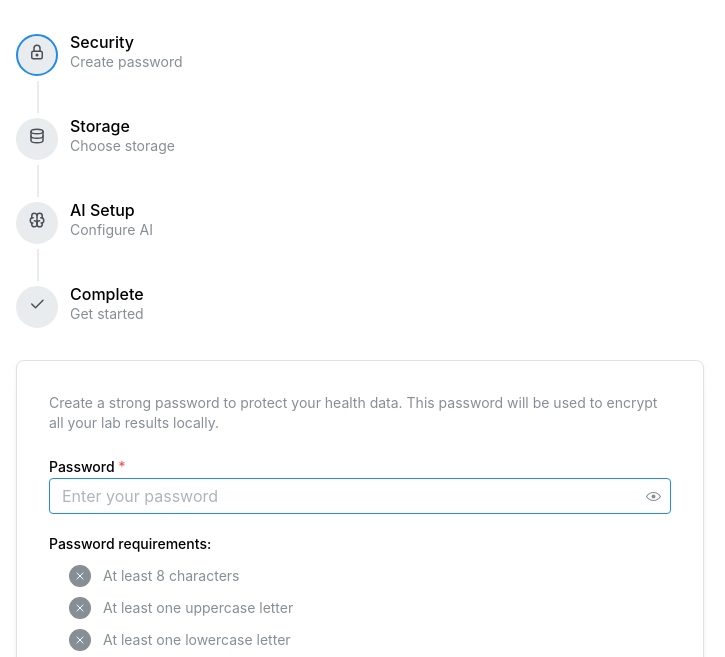
SetupWizard › Navigation Buttons › navigates to next step when Next button is clicked
Fill valid password
In the password field with placeholder "Enter your password": x=360, y=496 [50,479,670,513], type "TestPassword123!"
(page scrolled)
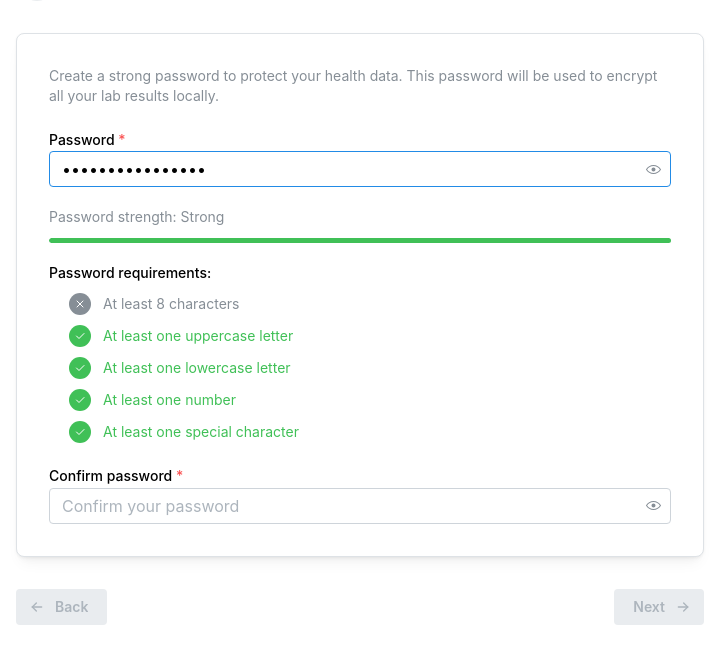
In the password field with placeholder "Confirm your password": x=360, y=506 [50,489,670,523], type "TestPassword123!"
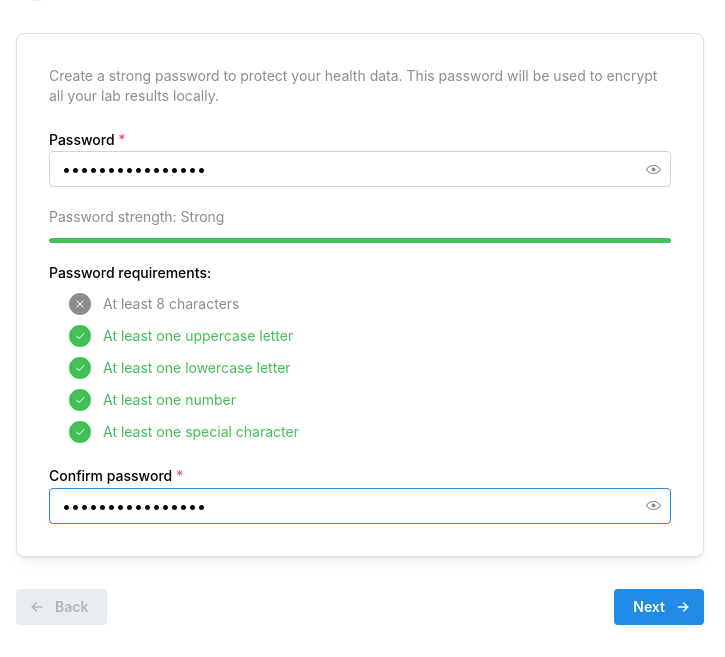
Click next (this triggers form submission)
Click the button with aria-label "go to next step": x=659, y=607 [614,589,704,625]
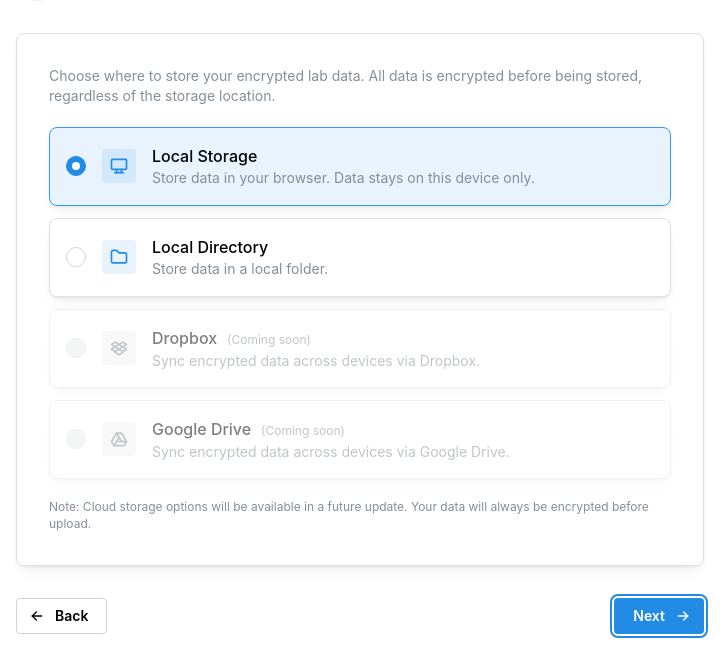
Check: the text "Choose where to store" is shown, box [49,67,642,104]
